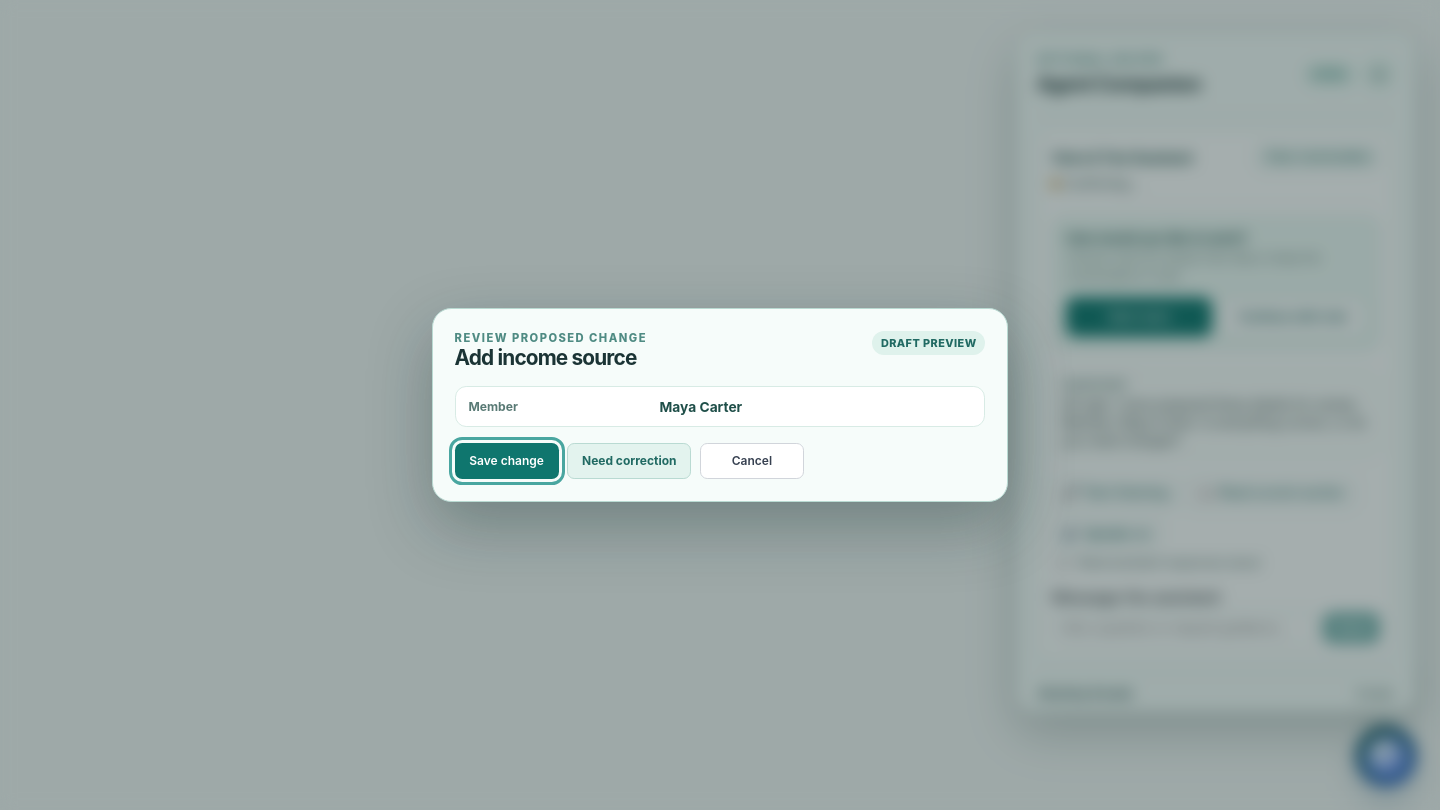
Scenario: AgentCompanion Component (Packet 2.3) › keeps the draft open when a correction loses a race with an already-started apply
Click the button "Need correction" at (629, 461), box [567,443,691,479]
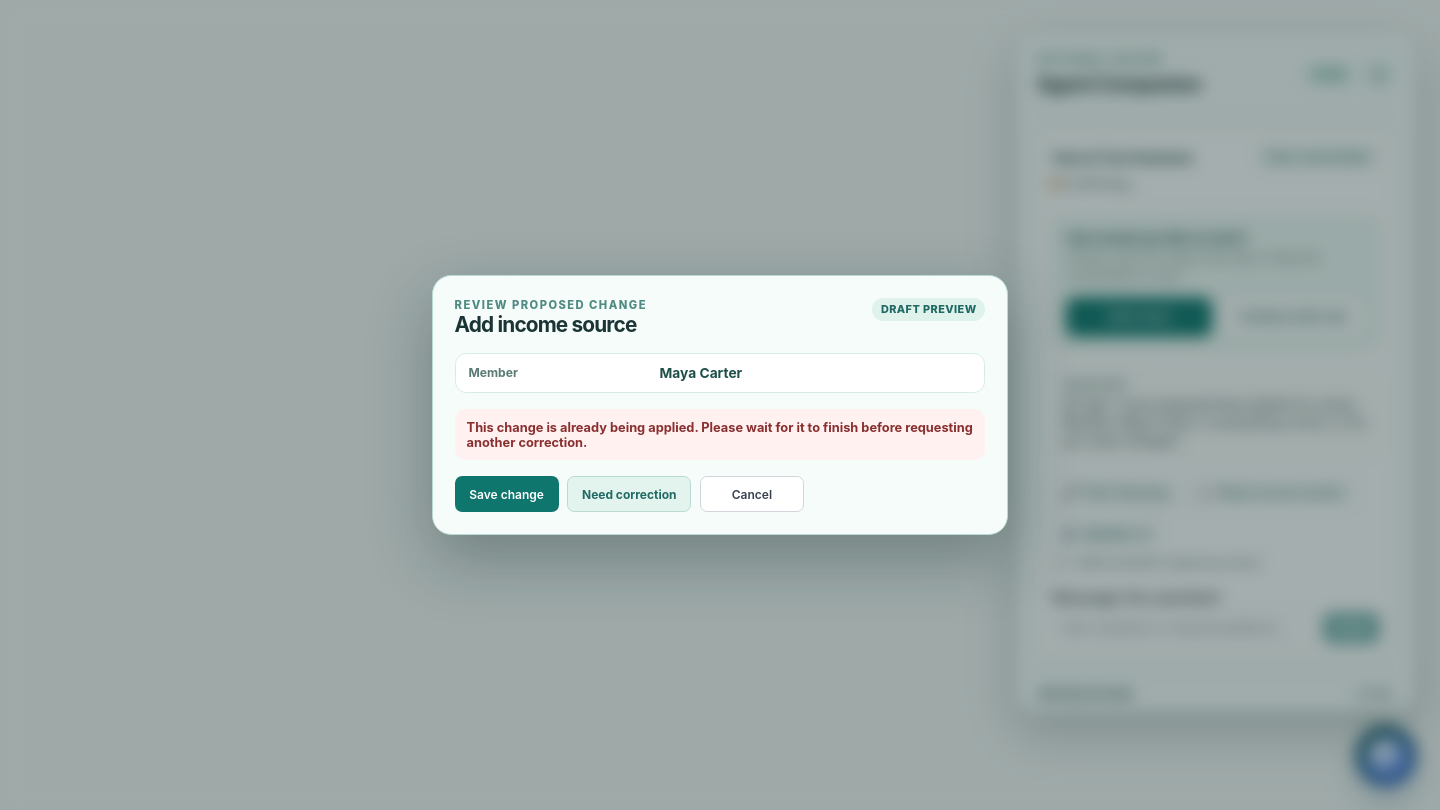
Expected: the dialog with class "tool-confirmation-modal" is shown, [432,275,1008,535]
Now the message shows "This change is already being applied", box [467,420,973,450]
